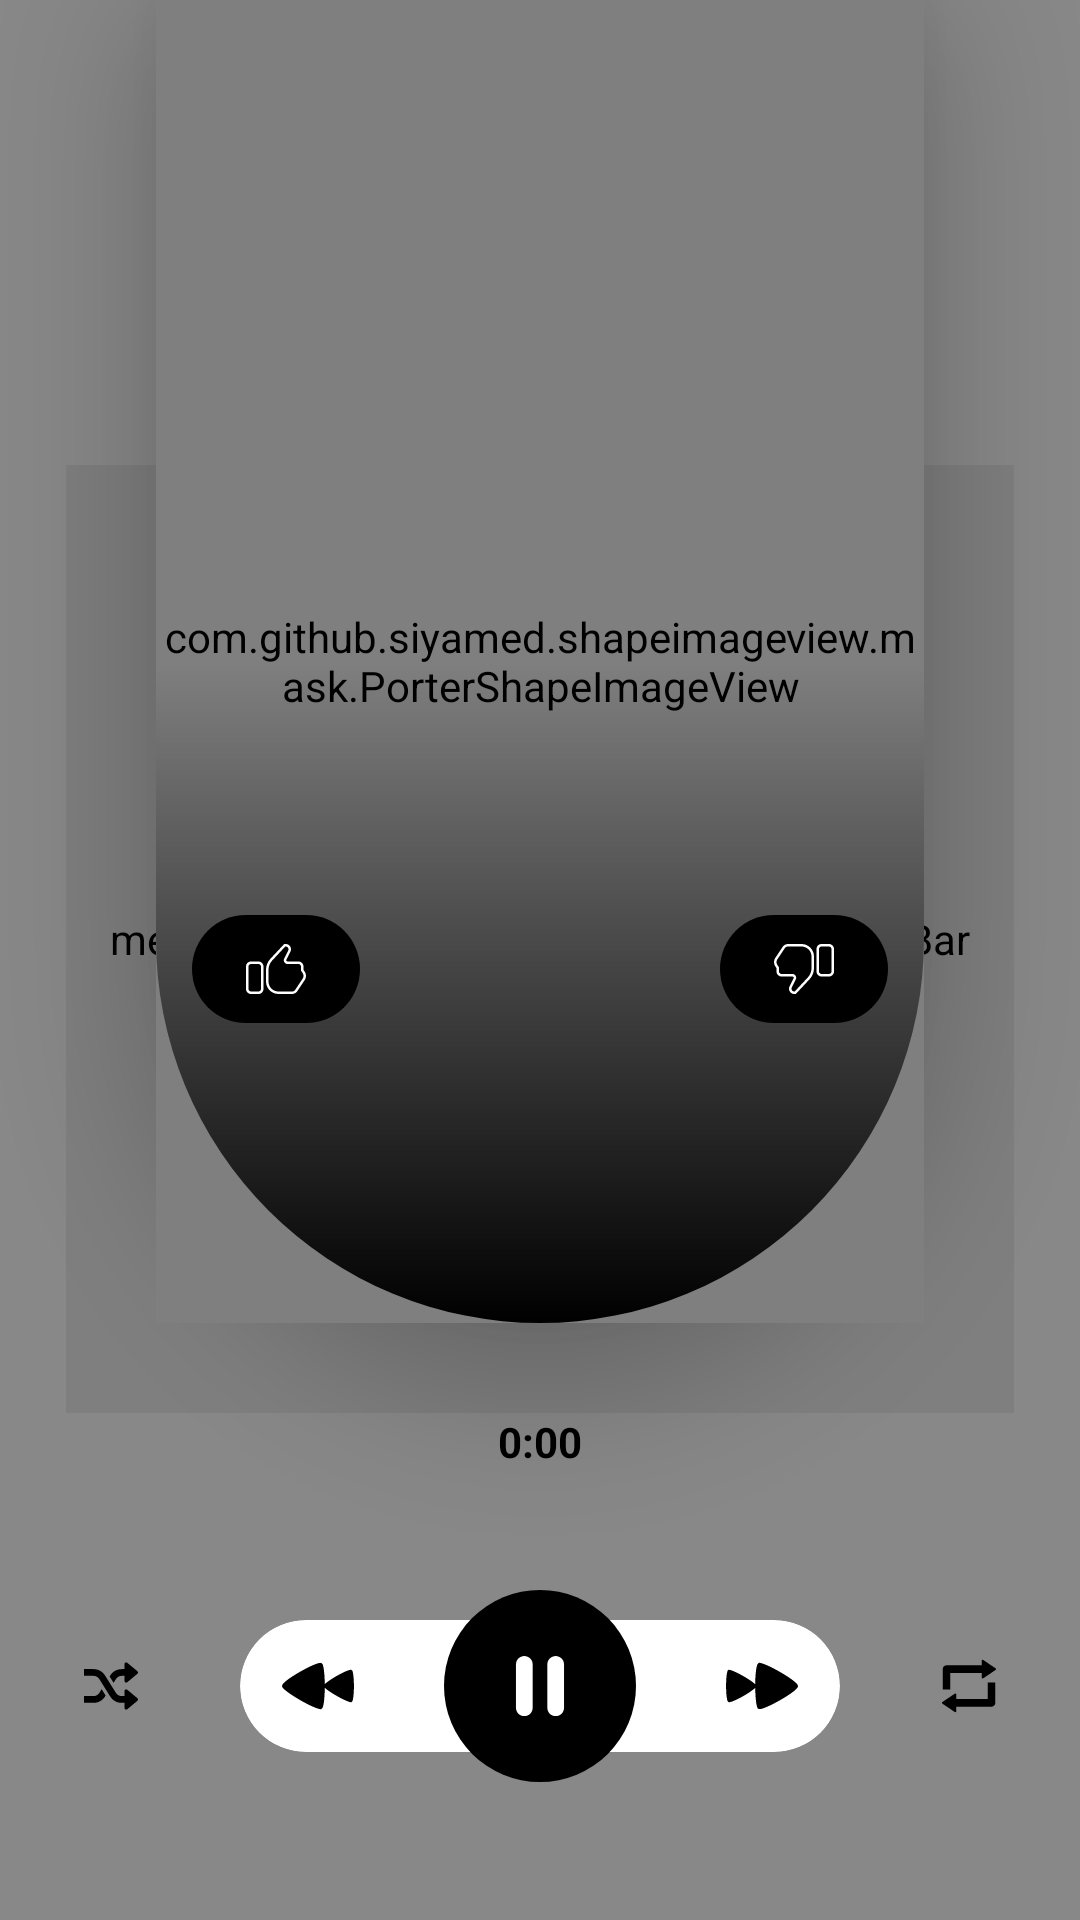

Point at icon controls on the screen. Image size 1080px x 1920px, points as (x=x, y=y).
dislike off: (x=804, y=969)
like off: (x=276, y=969)
next: (x=762, y=1686)
pause: (x=540, y=1686)
previous: (x=318, y=1686)
repeat: (x=969, y=1685)
shuffle bl: (x=111, y=1686)
